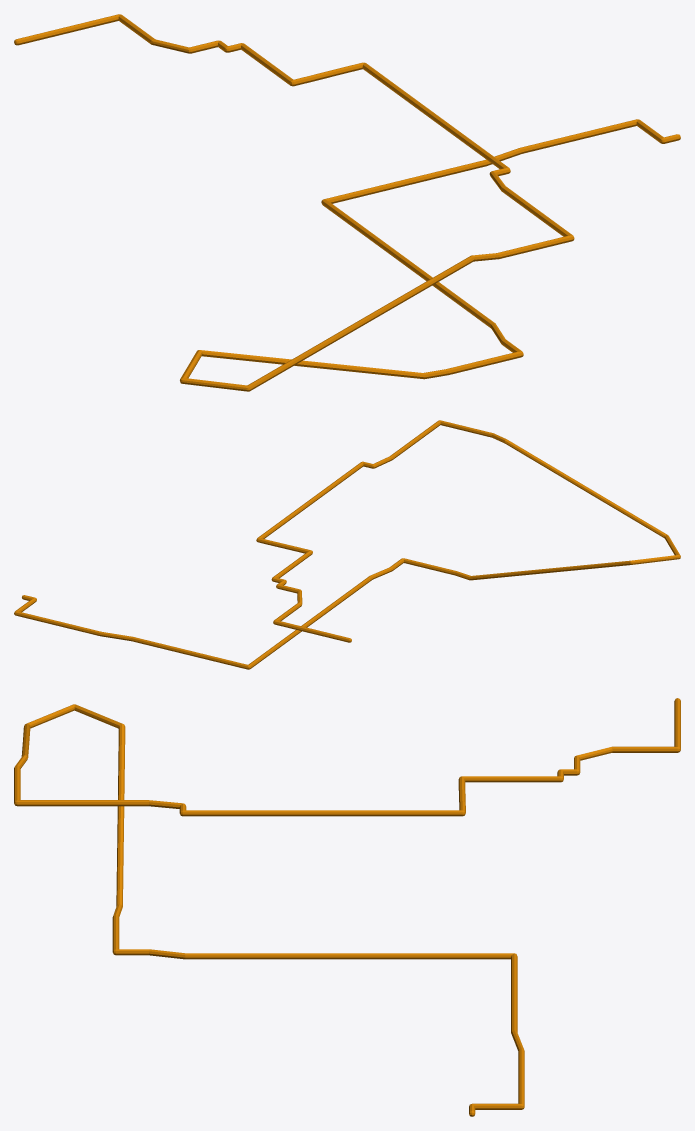
3 renders of one model, top to bottom at view 1: azimuth 30°, elevation 25°; view 2: azimuth 150°, elevation 25°; view 3: azimuth 270°, elevation 25°, orthographic. The views are drawn at different scales.
Size of the model in its own units: 2408 by 520 by 2028.
